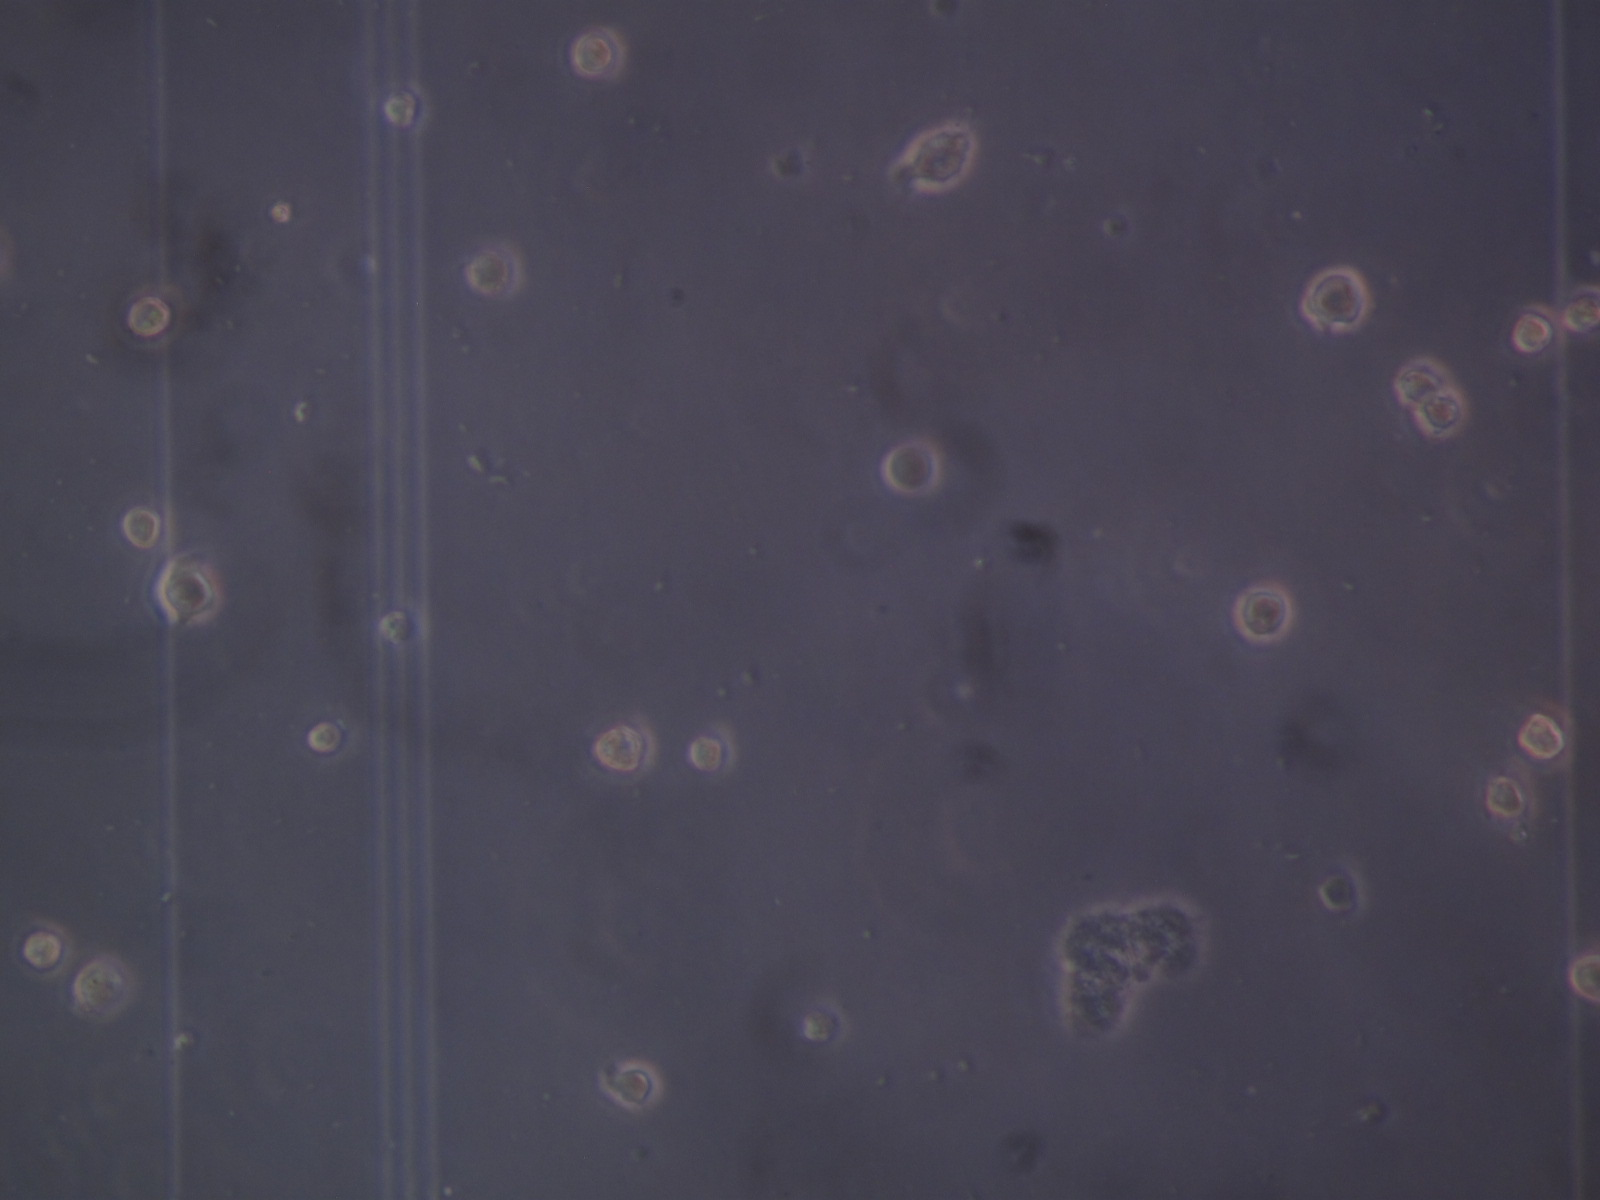hemo: (907, 121, 976, 190), (1301, 265, 1369, 334), (157, 558, 224, 626), (1517, 700, 1579, 771), (120, 284, 183, 349), (593, 718, 656, 782), (462, 239, 523, 301), (15, 916, 74, 979), (1231, 585, 1293, 644), (74, 961, 131, 1016), (1487, 761, 1537, 823), (1411, 384, 1465, 441), (1511, 303, 1566, 355), (601, 1063, 661, 1111), (886, 442, 940, 495), (687, 722, 737, 779), (1393, 355, 1449, 406), (384, 76, 431, 135), (574, 25, 624, 77), (804, 996, 848, 1047), (1319, 871, 1366, 916), (1562, 284, 1600, 335), (305, 716, 345, 758), (123, 505, 161, 548), (377, 604, 413, 645), (1572, 954, 1600, 1000)
